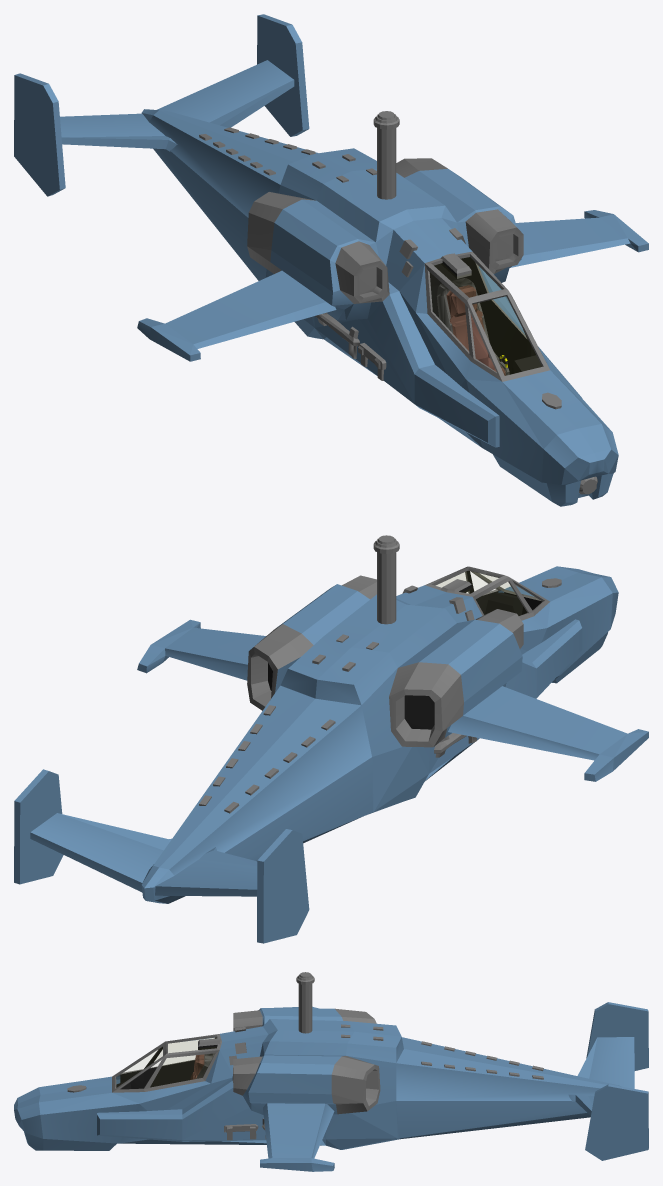
Rendered from aircraft_12_damage.glb.
The picture shows the model from 3 angles, top to bottom: view 1: azimuth 30°, elevation 25°; view 2: azimuth 150°, elevation 25°; view 3: azimuth 270°, elevation 25°; orthographic projection. The views are drawn at different scales.
Parts seen in each view (by area): view 1: fuselage, TailBreakaway, ejection seat, RotorShaft; view 2: fuselage, TailBreakaway, RotorShaft, instrument panel; view 3: fuselage, TailBreakaway, RotorShaft, ejection seat.
Part boxes in pixels (x1,y1,x2,y2): fuselage: (137,148,648,506); TailBreakaway: (14,14,318,272); ejection seat: (436,278,509,375); RotorShaft: (373,111,399,199); fuselage: (137,566,648,824); TailBreakaway: (14,705,351,943); RotorShaft: (373,535,399,624); instrument panel: (485,592,522,615); fuselage: (14,1006,422,1171); TailBreakaway: (422,1002,648,1160); RotorShaft: (296,972,314,1033); ejection seat: (190,1053,214,1079).
Size of the model in its own units: 7.27 by 3.67 by 12.47.
